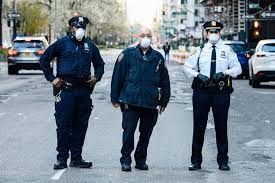uniform: (50, 37, 96, 163)
